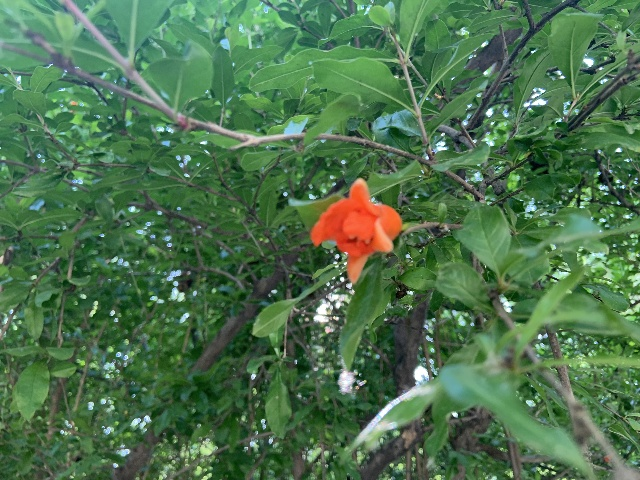flower: (310, 178, 401, 283)
